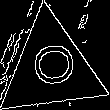O_W: (25, 44, 77, 93)
